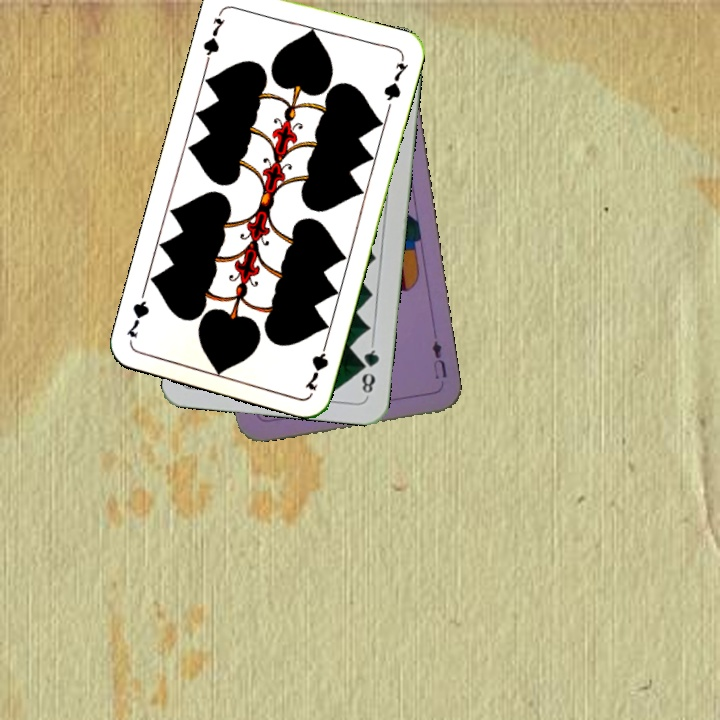EU: (428, 336, 449, 382)
G7: (301, 335, 331, 394), (199, 6, 228, 64)
G8: (357, 340, 382, 399)
